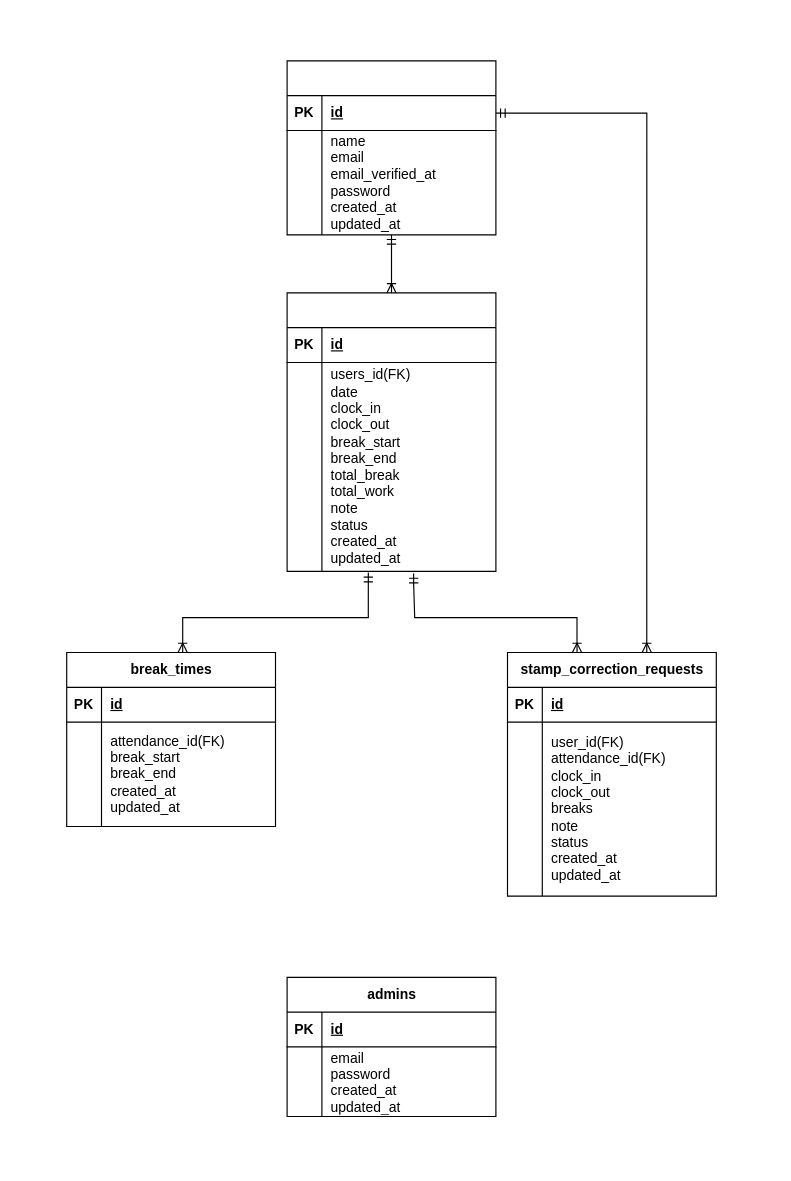
This 791x1181 diagram has some shape labels left out. Here are the shapes that lost their labels. From the top down, the box of each, then its label:
(286, 60, 496, 235): users
(286, 292, 496, 571): attendances
